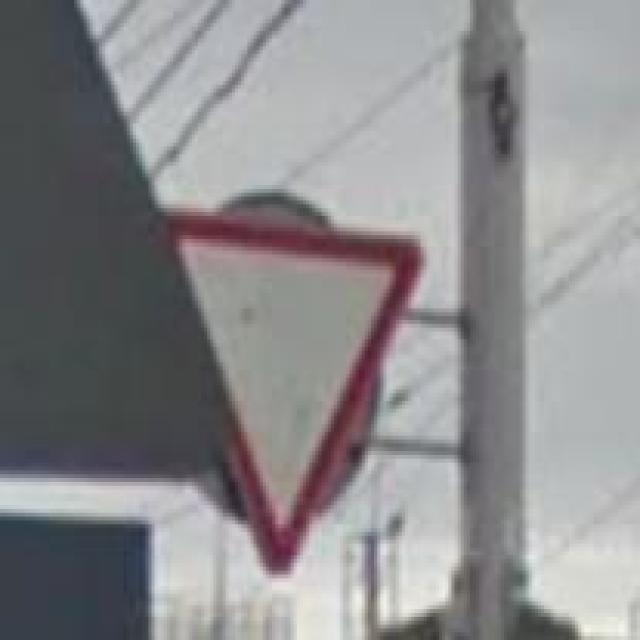give_way: (152, 208, 426, 575)
